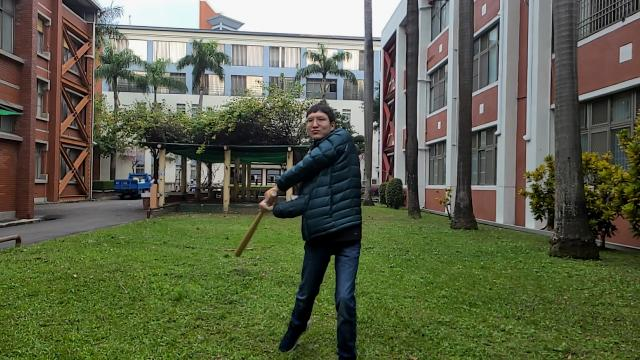bat: (234, 212, 266, 258)
